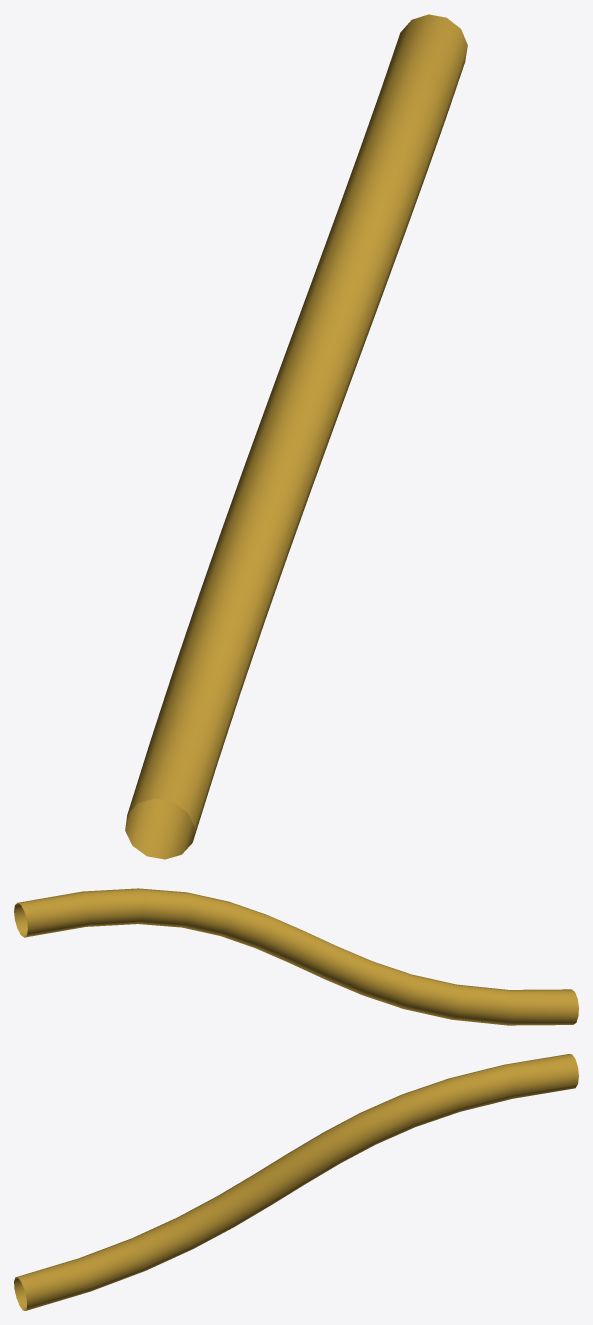
3 renders of one model, top to bottom at view 1: azimuth 30°, elevation 25°; view 2: azimuth 150°, elevation 25°; view 3: azimuth 330°, elevation 25°, orthographic. The views are drawn at different scales.
Parts seen in each view (by area): view 1: 左侧臂丛上干; view 2: 左侧臂丛上干; view 3: 左侧臂丛上干.
Part boxes in pixels (bbox=[...]): 左侧臂丛上干: bbox=[125, 14, 467, 859]; 左侧臂丛上干: bbox=[14, 888, 578, 1025]; 左侧臂丛上干: bbox=[14, 1054, 578, 1310].
Size of the model in its own units: 0.0527 by 0.0256 by 0.0542.
